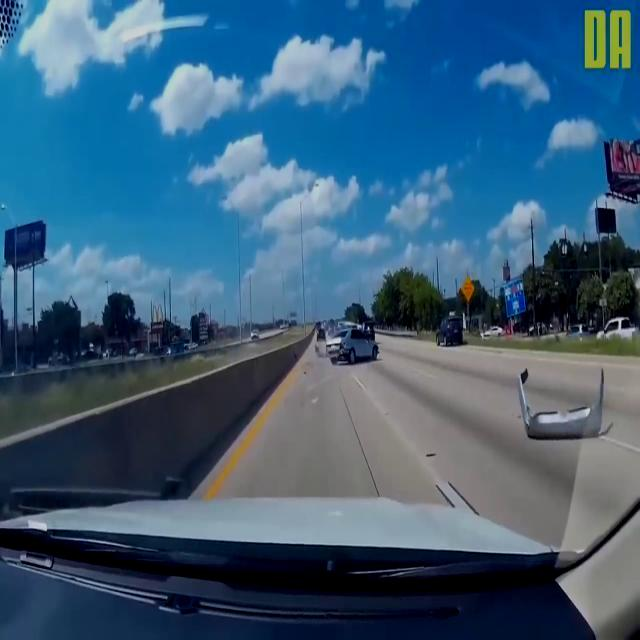accident: (314, 322, 381, 366)
